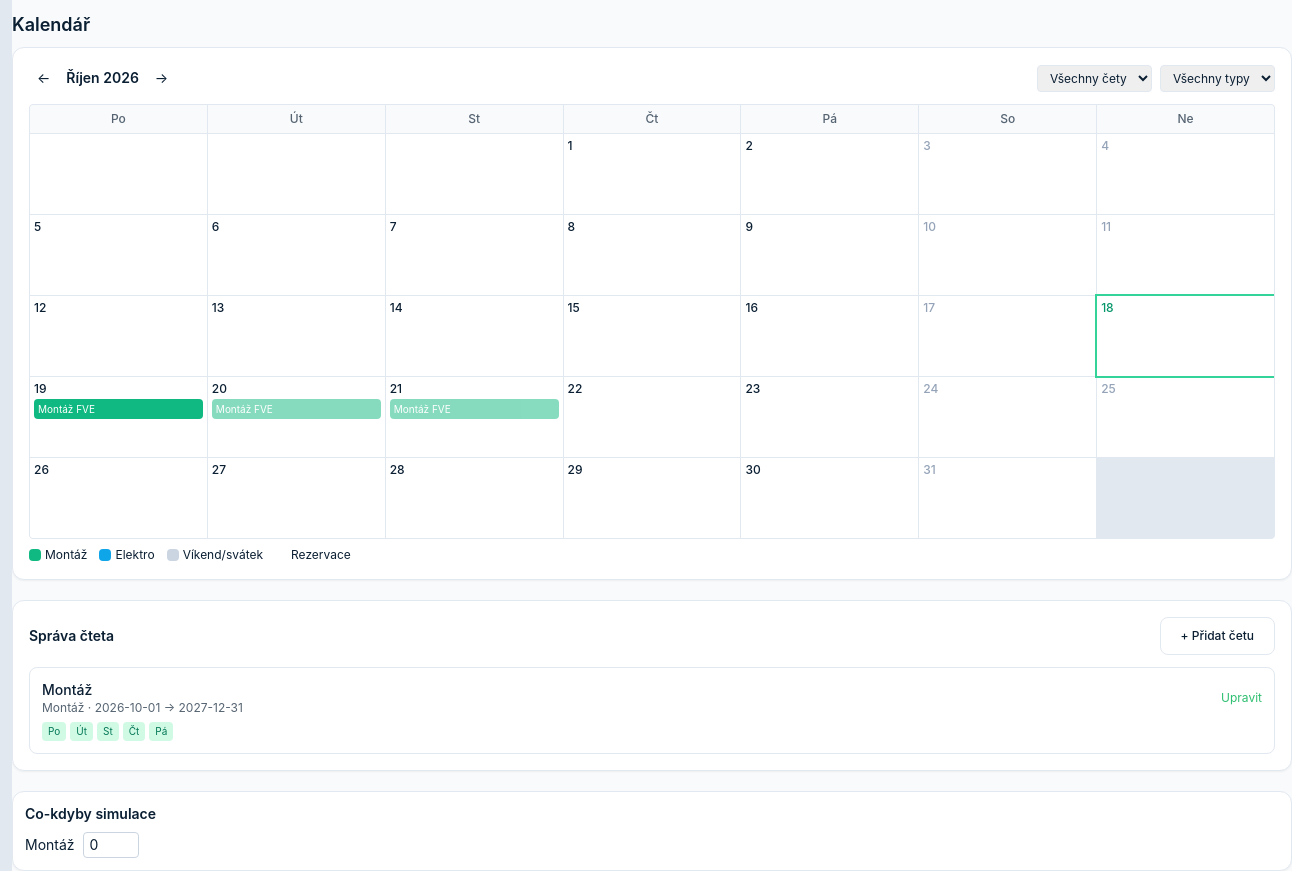
Scenario: Planovani — what-if simulate › what-if počet čteta volá simulate a překreslí makespan
(page scrolled)
Replace the text in the number field with test id "what-if-roofer" with "2". click: (111, 845)
box: [83,832,139,858]
(page scrolled)
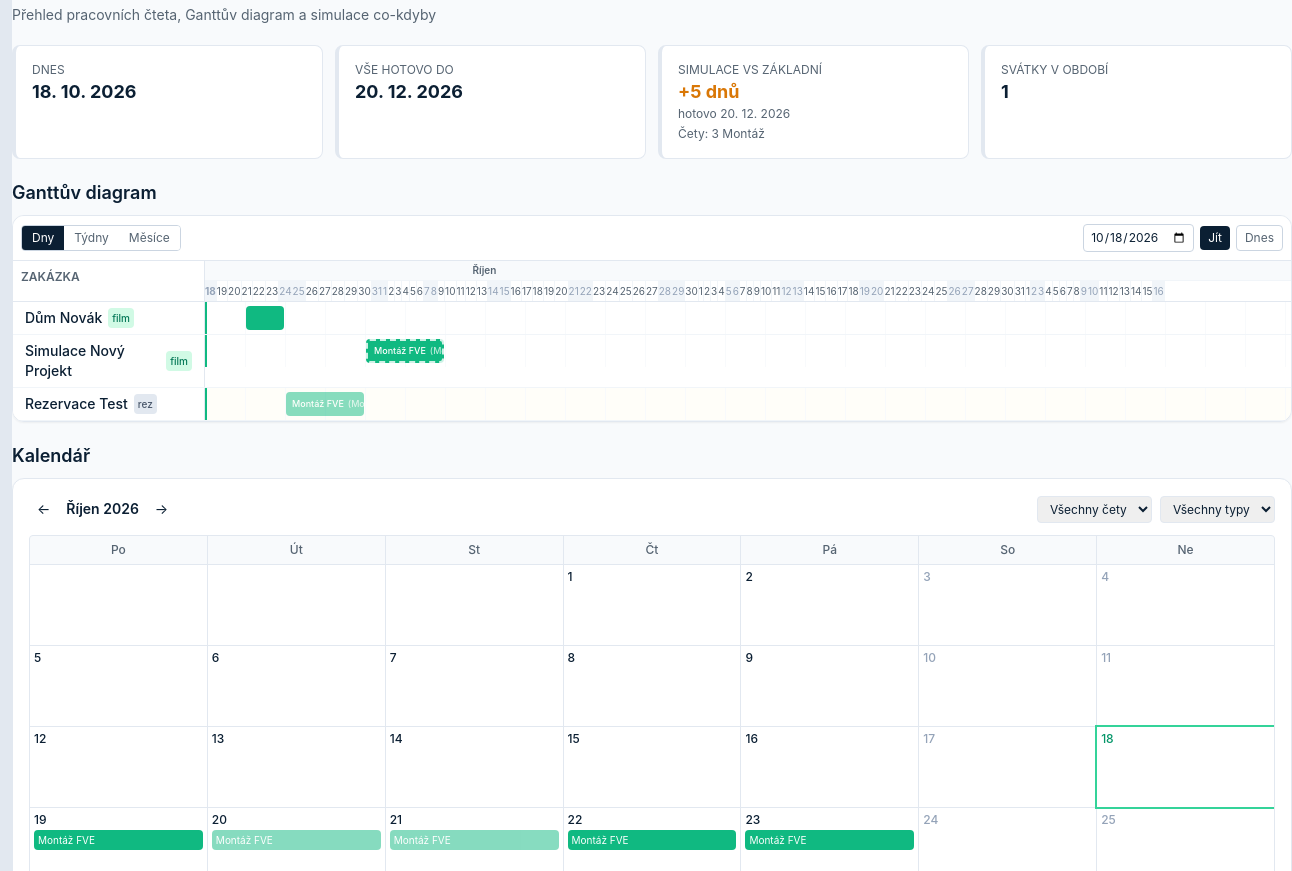
Check: the text "Simulace Nový Projekt" is shown, box [25,342,125,379]
